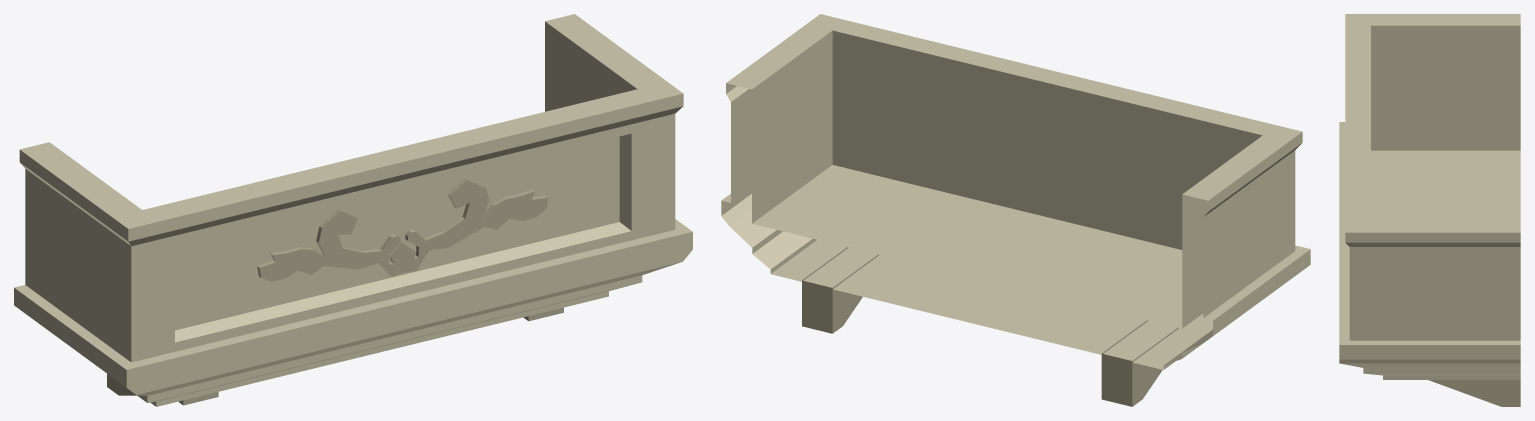
Rendered from Balcony_1.fbx.
3 views of the same model, side by side, from view 1: azimuth 30°, elevation 25°; view 2: azimuth 150°, elevation 25°; view 3: azimuth 270°, elevation 25° (orthographic). The views are drawn at different scales.
Parts seen in each view (by area): view 1: Balcony_1; view 2: Balcony_1; view 3: Balcony_1.
Part boxes in pixels (left/top/right/bottom): Balcony_1: left=14, top=14, right=692, bottom=406; Balcony_1: left=721, top=14, right=1310, bottom=406; Balcony_1: left=1339, top=14, right=1520, bottom=406.
Size of the model in its own units: 318 by 139 by 109.
